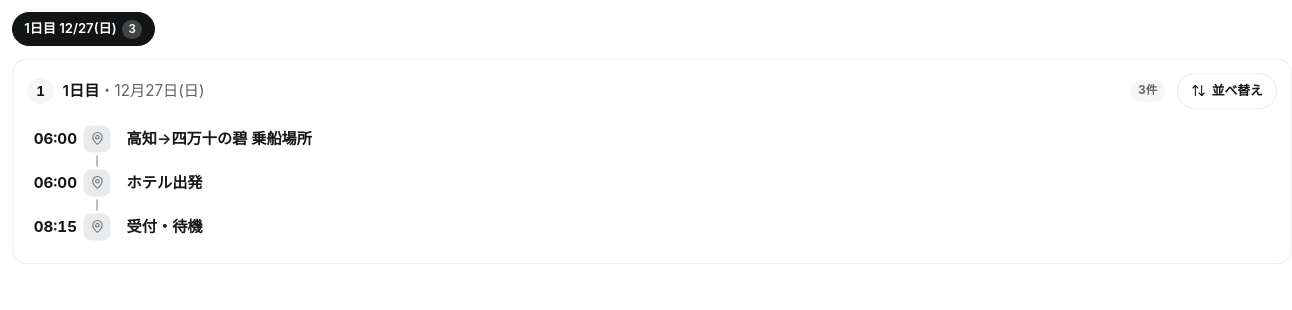
Test: 予定の並べ替え(長押しして動かす) › 「並べ替え」を押すと、各行につまみが出て、案内が1行出る。「完了」で元に戻る
Click the button "並べ替え".
click(1227, 91)  # box [1177,73,1277,109]
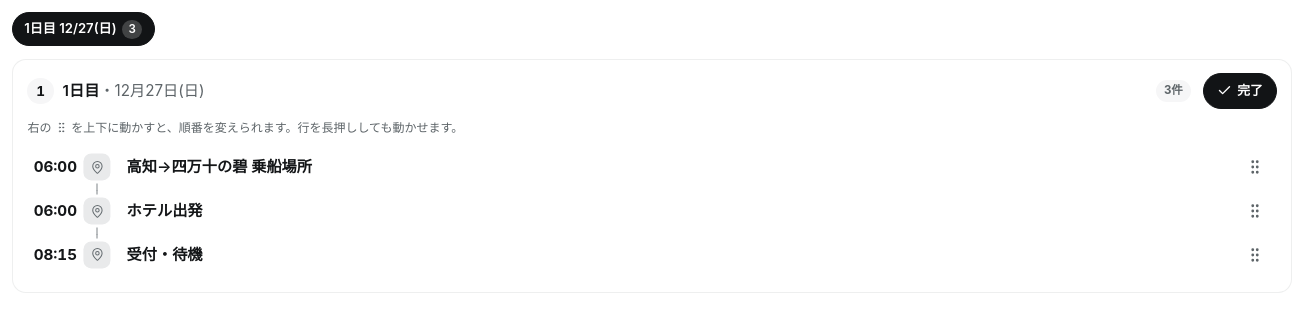
Now the number of buttons named "を動かす" is 3, box [1233,145,1277,189]; [1233,189,1277,233]; [1233,233,1277,277]
Now the text "右の を上下に動かすと、順番を変えられます。行を長押ししても動かせます。" is shown, box [27,120,463,135]
Click the button "完了".
click(1240, 91)  # box [1203,73,1277,109]
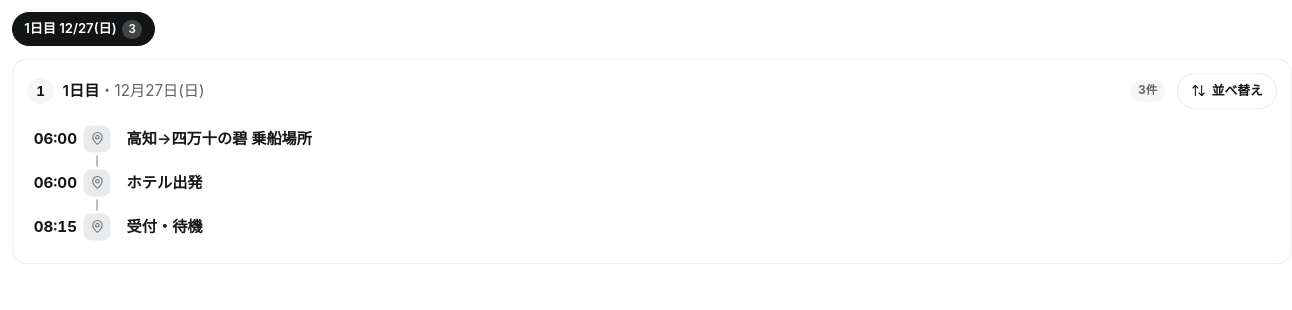
Now the button "並べ替え" is shown, box [1177,73,1277,109]
